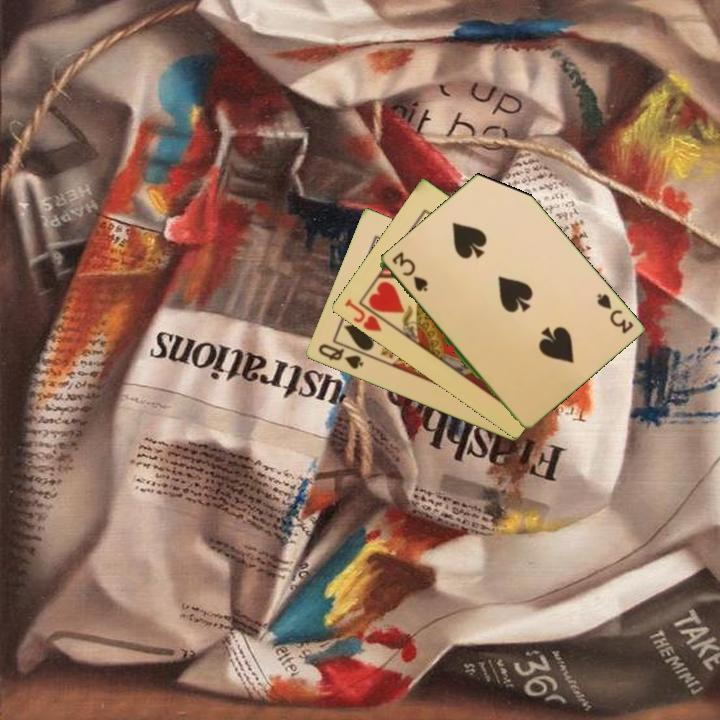3s: (592, 290, 636, 337), (388, 250, 431, 295)
Jh: (341, 295, 393, 335)
Qs: (314, 340, 366, 372)
